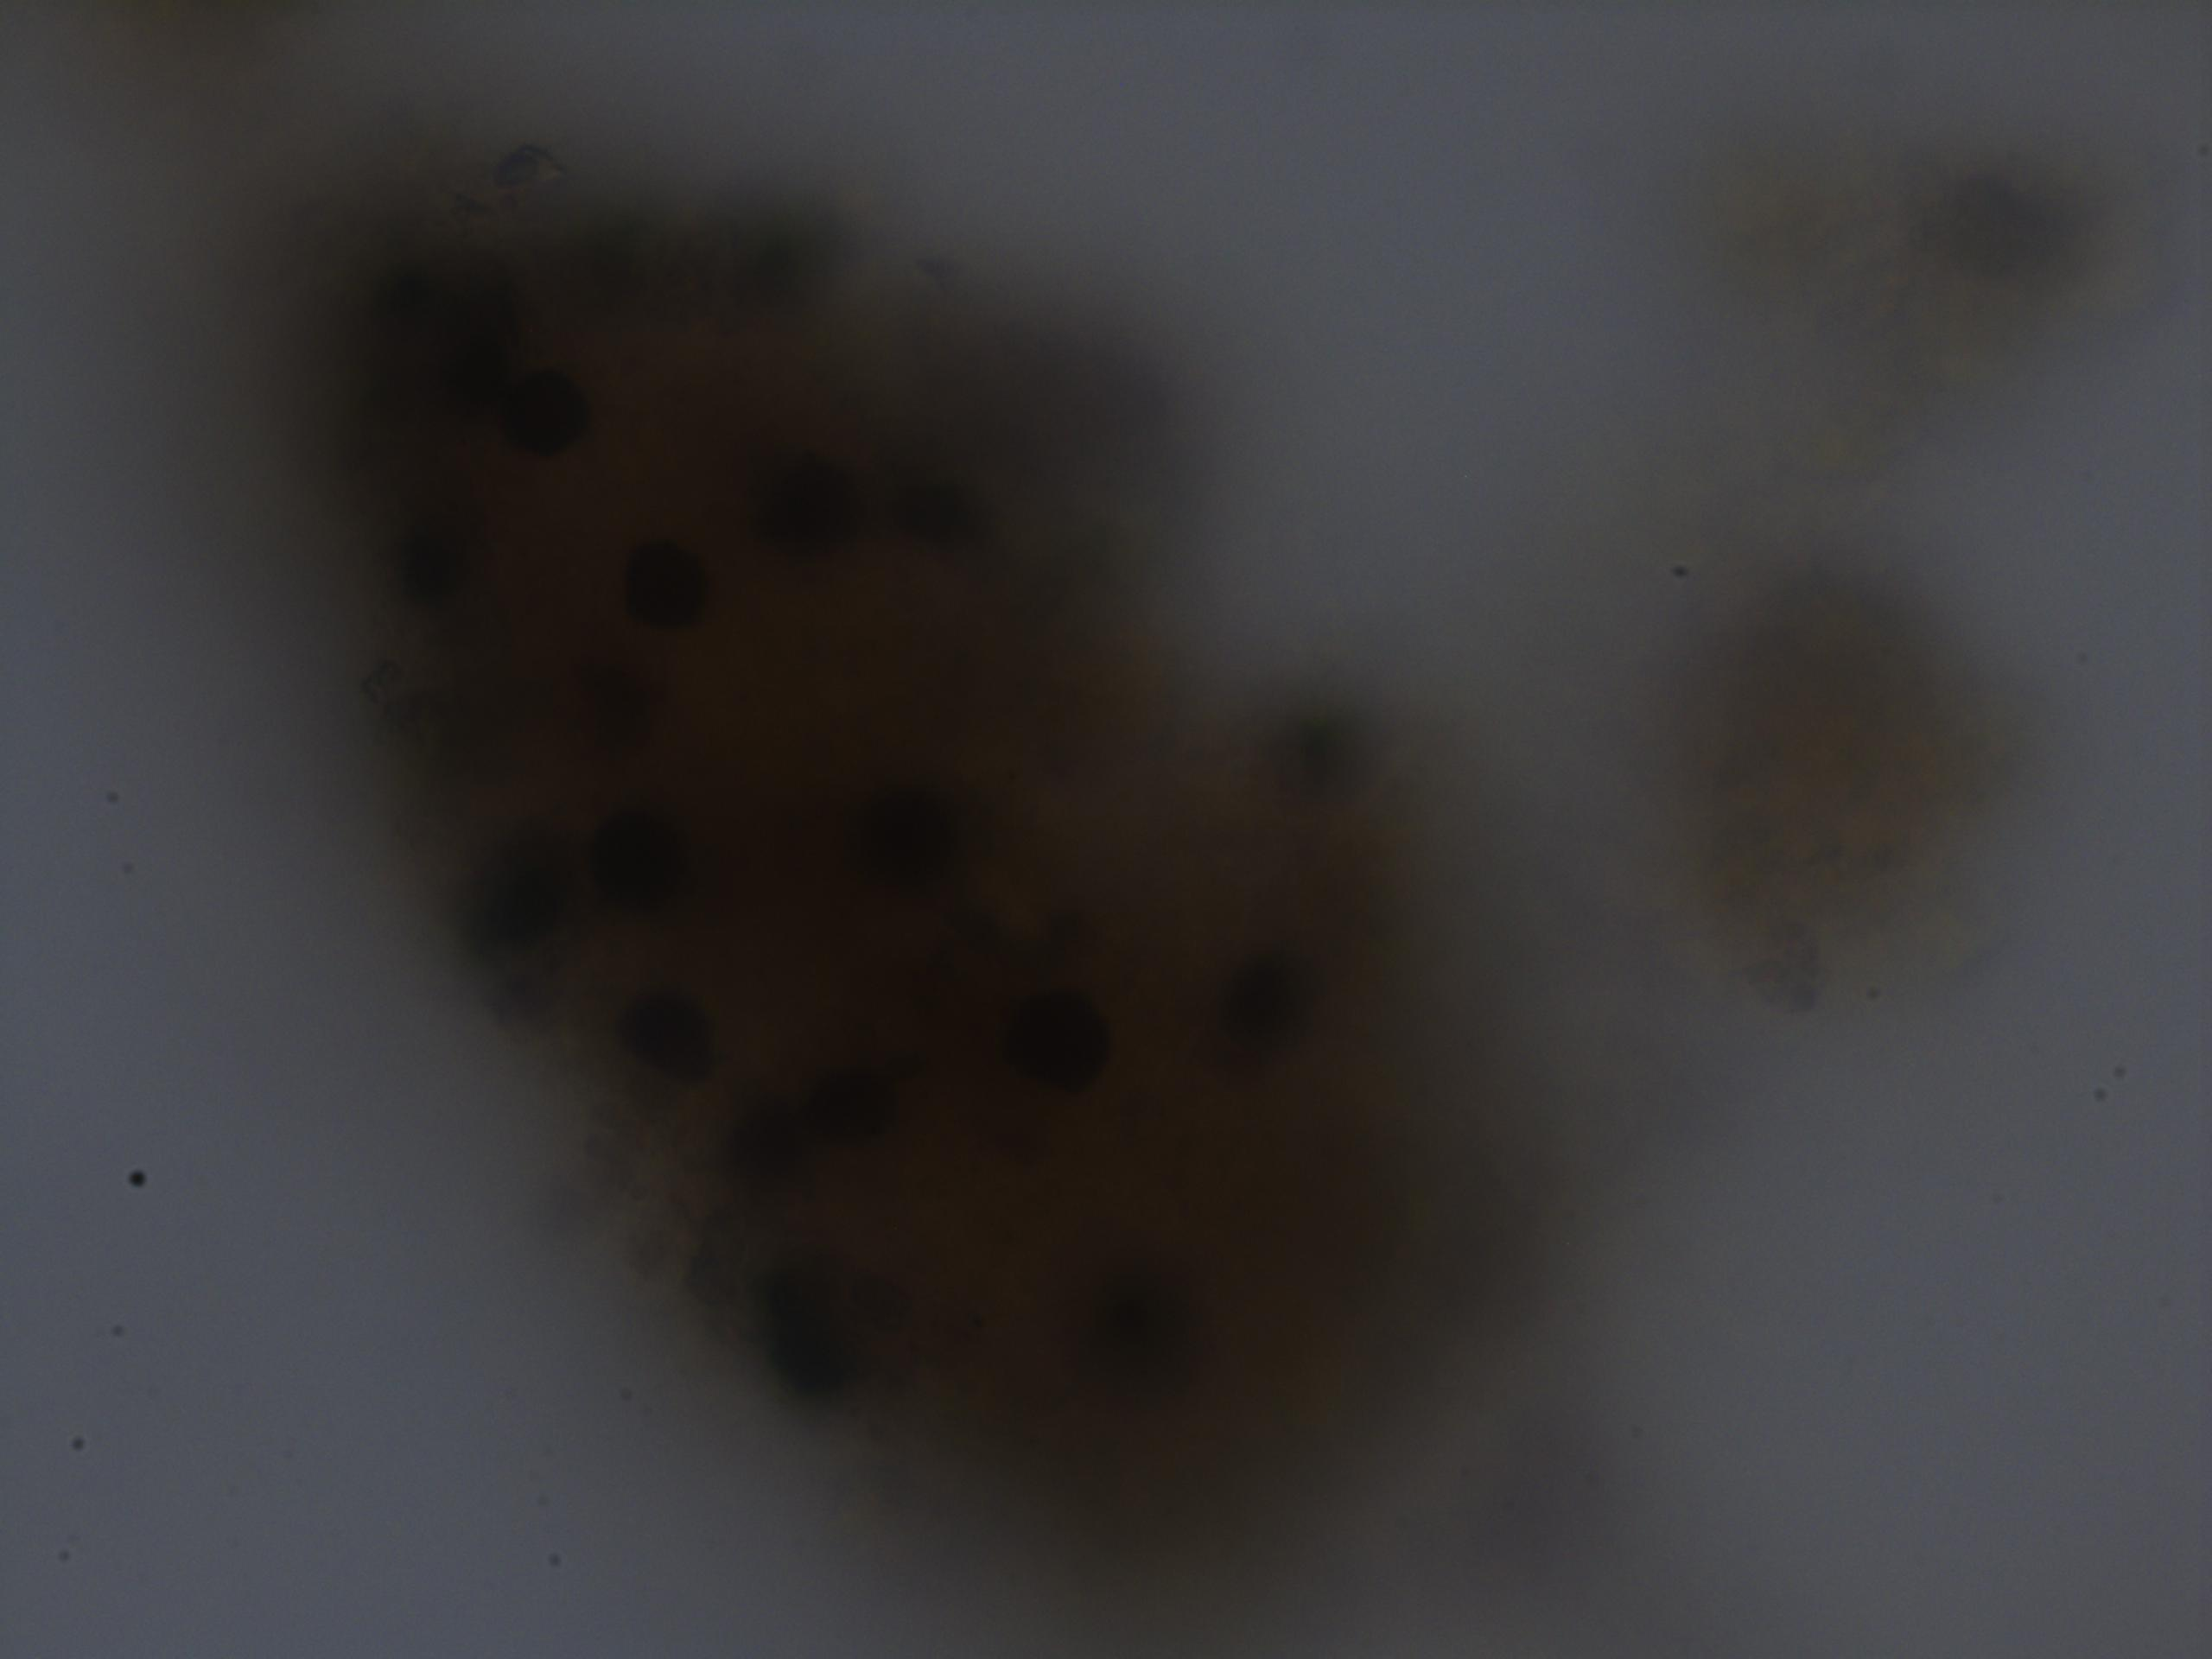spherical_floc: (253, 141, 1583, 1617)
